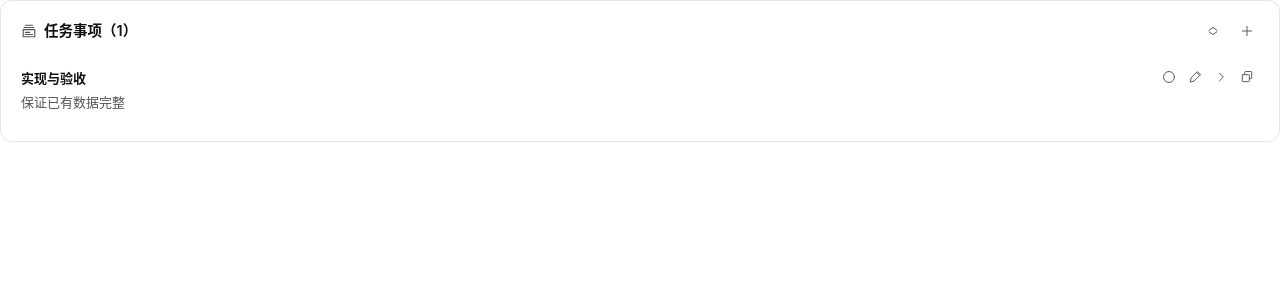
Test case: keeps the draft after a failed update and allows rereading the latest record
The image size is (1280, 295).
Expected: the element "实现与验收" is shown, top-left (21, 55), bottom-right (1259, 123)
Click the button named "编辑事项：实现与验收": (1195, 77) top-left (1183, 65), bottom-right (1207, 89)
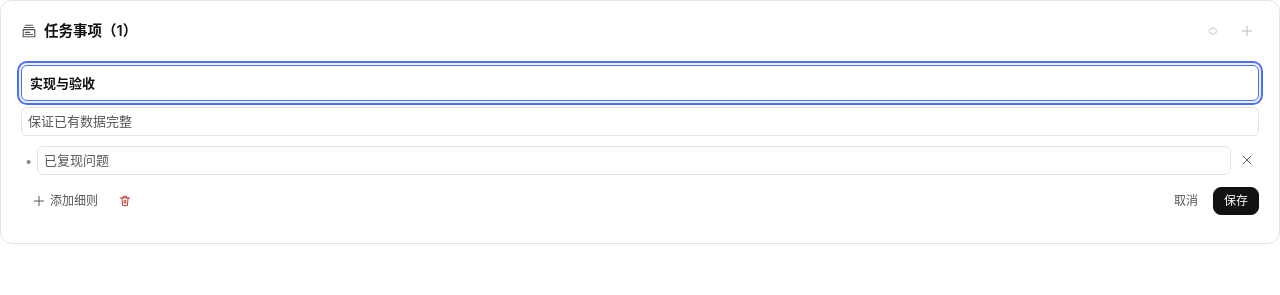
Replace the text in the text box named "事项描述" with "保留本地修改": (640, 122) top-left (21, 107), bottom-right (1259, 136)
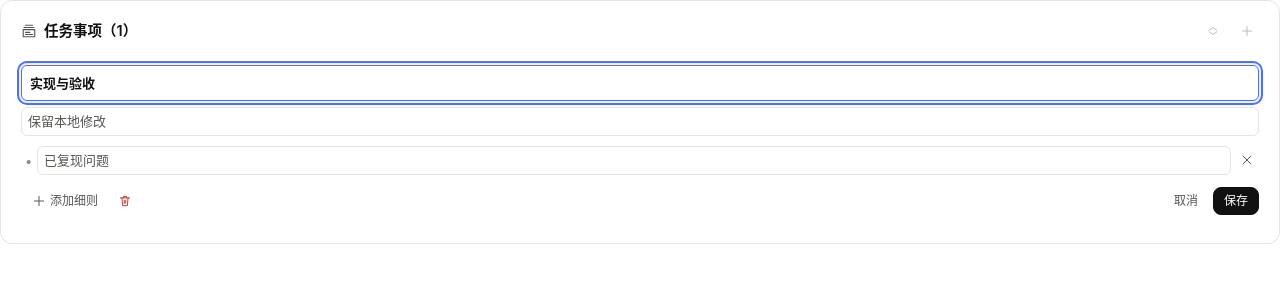
Click the button "保存": (1236, 201) top-left (1213, 187), bottom-right (1259, 215)
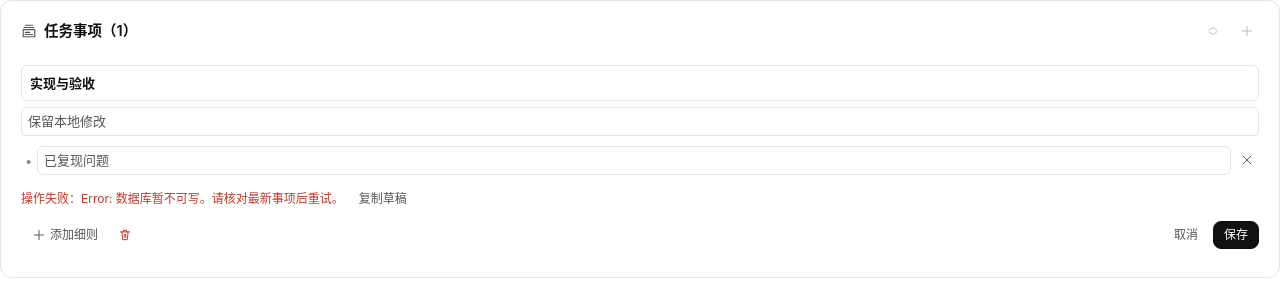
Expected: the message "操作失败：Error: 数据库暂不可写。请核对最新事项后重试。 复制草稿" is shown, top-left (21, 185), bottom-right (418, 213)
